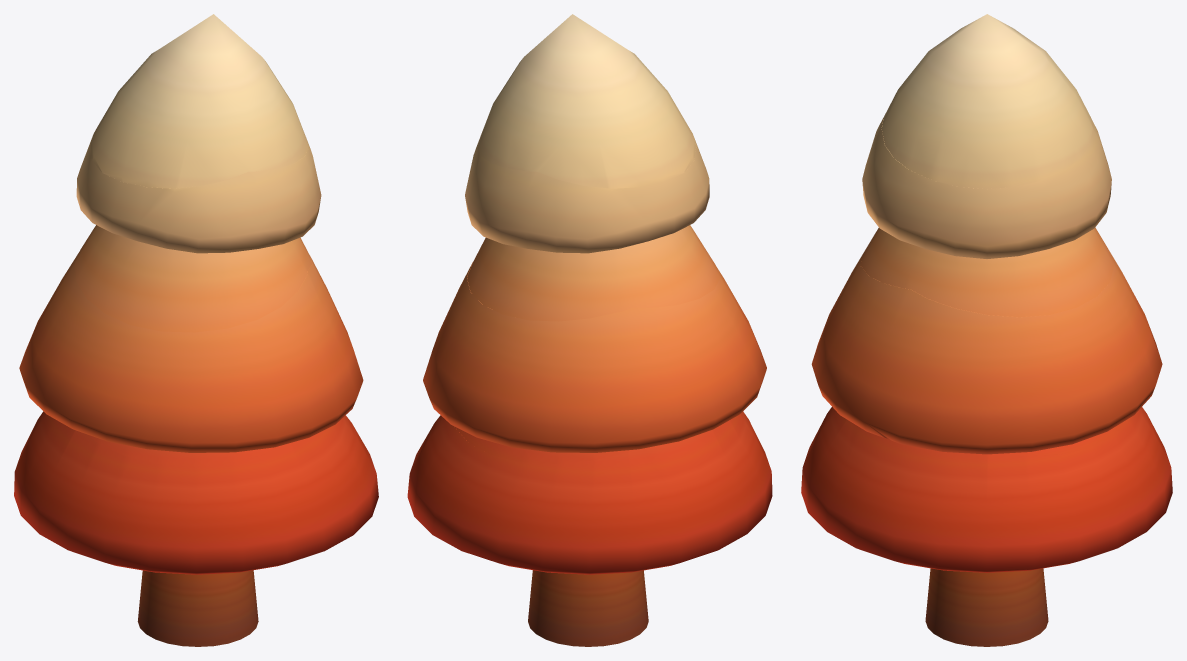
File: Yel_Tree_D.fbx
3 views of the same model, side by side, from view 1: azimuth 30°, elevation 25°; view 2: azimuth 150°, elevation 25°; view 3: azimuth 270°, elevation 25° (orthographic).
Visible parts, largest first — view 1: Tree03, Tree02, Tree04, Tree05, Tree01; view 2: Tree03, Tree02, Tree04, Tree05, Tree01; view 3: Tree03, Tree02, Tree04, Tree05, Tree01.
Boxes of the visible parts, bbox=[...] form: Tree03: bbox=[19, 251, 363, 466]; Tree02: bbox=[14, 411, 378, 574]; Tree04: bbox=[75, 132, 321, 332]; Tree05: bbox=[90, 14, 308, 188]; Tree01: bbox=[137, 570, 258, 646]; Tree03: bbox=[423, 262, 766, 463]; Tree02: bbox=[407, 411, 772, 574]; Tree04: bbox=[465, 131, 719, 321]; Tree05: bbox=[477, 14, 696, 188]; Tree01: bbox=[528, 570, 648, 646]; Tree03: bbox=[811, 250, 1162, 455]; Tree02: bbox=[801, 407, 1172, 572]; Tree04: bbox=[860, 118, 1113, 317]; Tree05: bbox=[881, 14, 1092, 188]; Tree01: bbox=[925, 568, 1048, 646].
Bounding box in the file's own units: 106 × 107 × 195.
